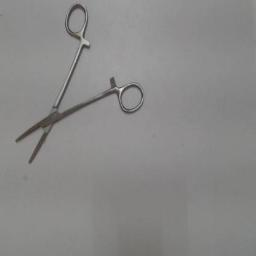Mayo Needle Holder: (12, 1, 148, 171)
